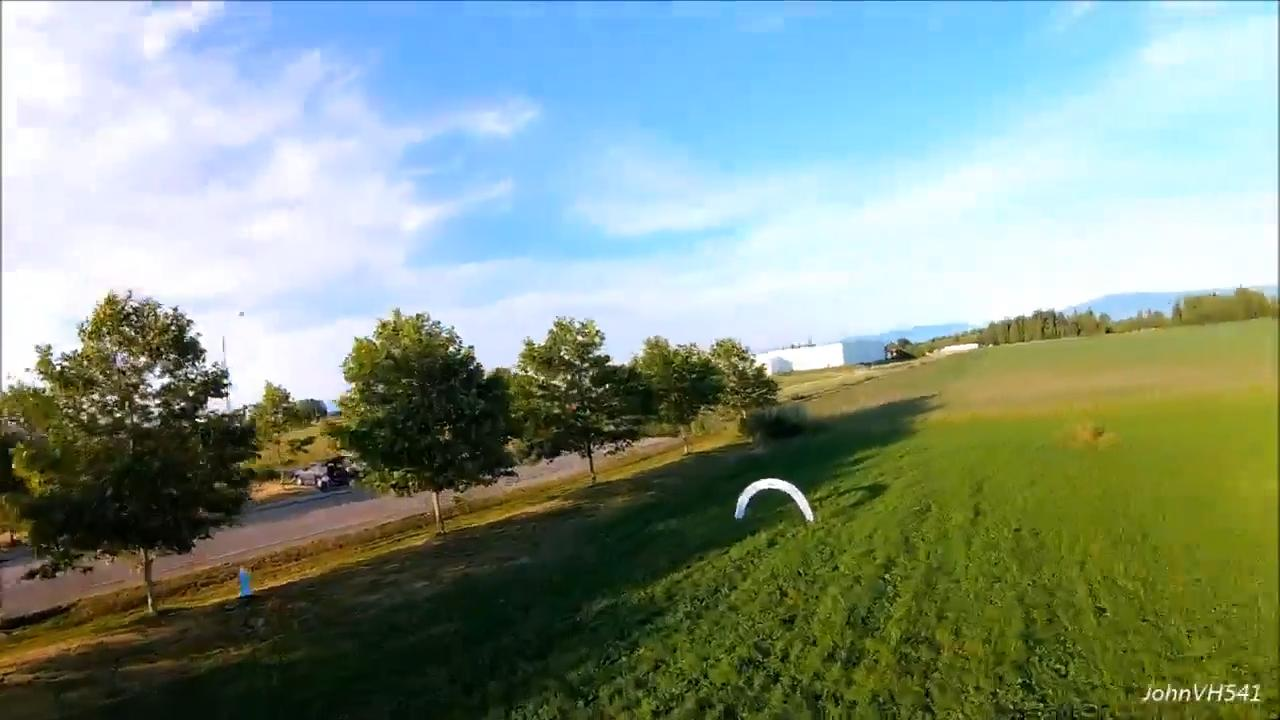gate: (733, 477, 811, 523)
